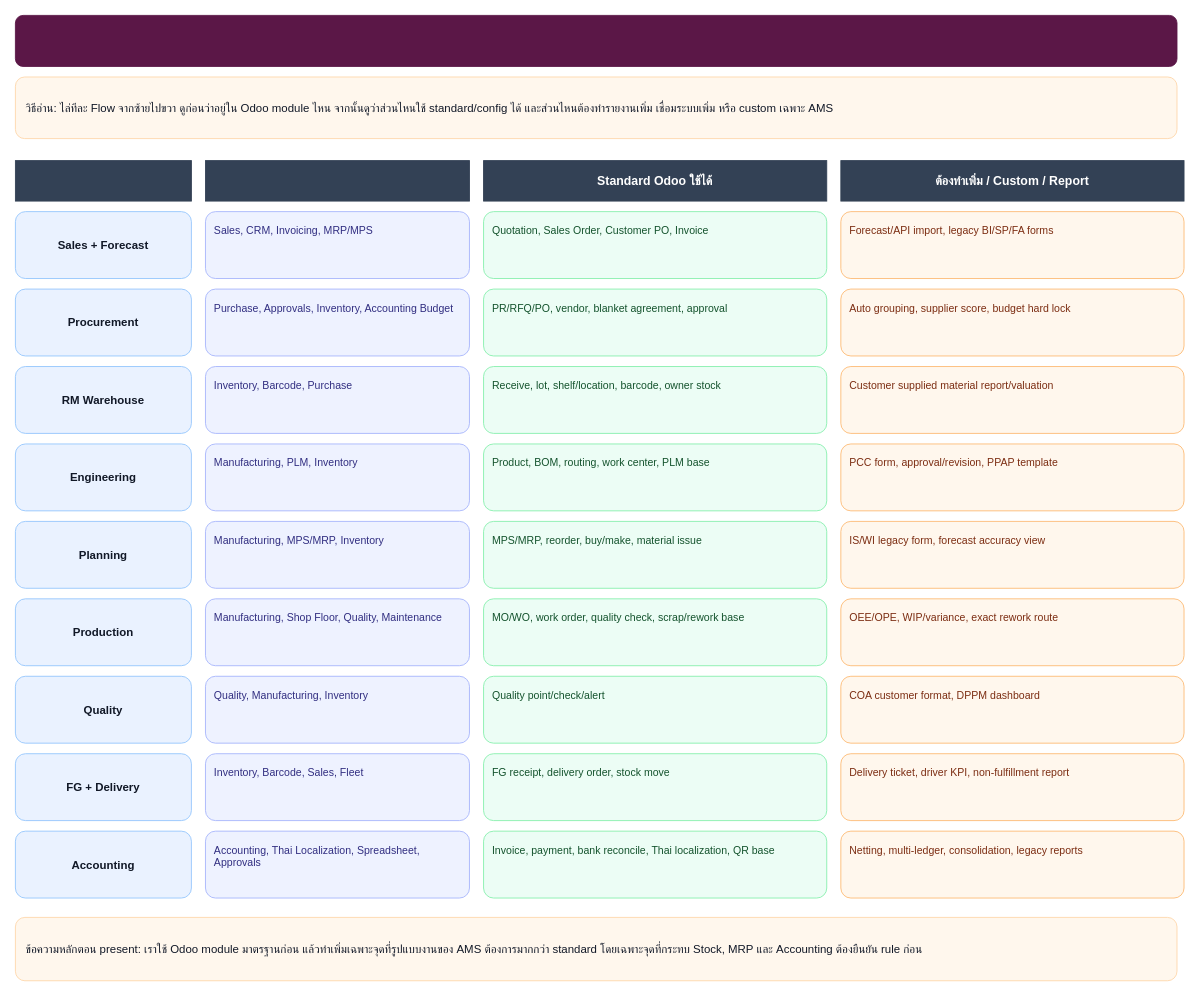
Image size: 1199x996. Some labels were removed from this diagram. The shapes that lost their labels are listed below. From the top down, each one's box as (x1, y1, x2, y2) in pixels, then its label:
(15, 15, 1177, 66): AMS Flow Mapping: Module / Standard Odoo / ต้องทำเพิ่ม
(15, 160, 191, 201): Flow
(205, 160, 469, 201): Odoo Module
